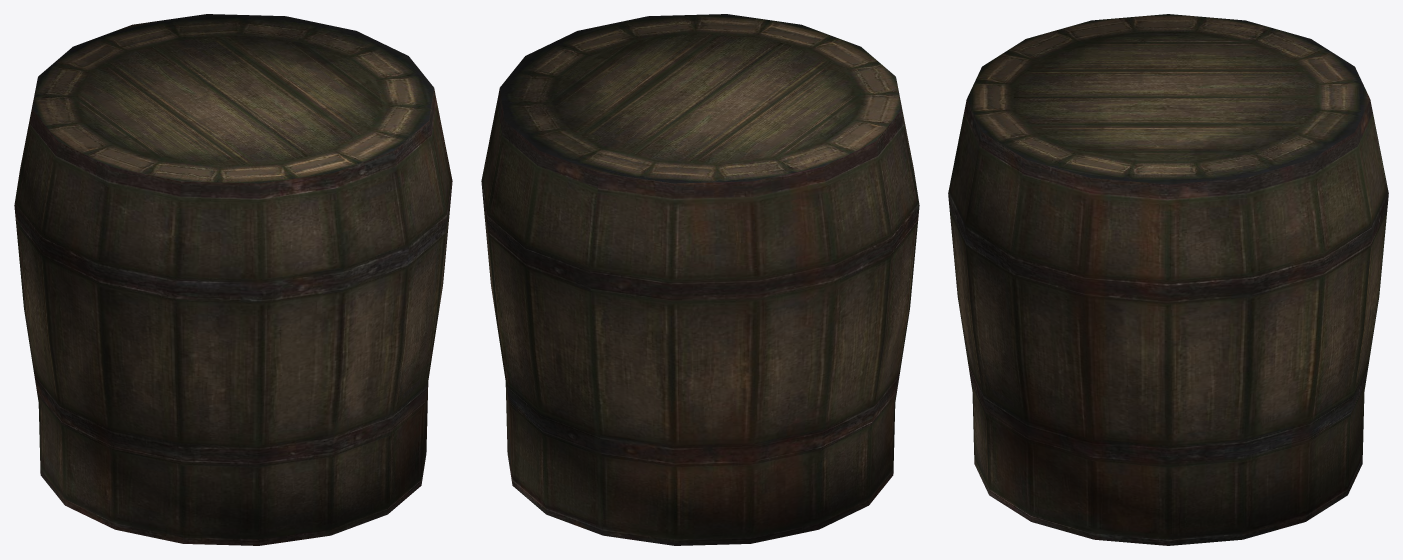
The model's file is barril_v1.fbx.
3 views of the same model, side by side, from view 1: azimuth 30°, elevation 25°; view 2: azimuth 150°, elevation 25°; view 3: azimuth 270°, elevation 25° (orthographic).
Parts seen in each view (by area): view 1: Cylinder; view 2: Cylinder; view 3: Cylinder.
Part boxes in pixels (bbox=[...]): Cylinder: bbox=[14, 14, 452, 545]; Cylinder: bbox=[481, 14, 919, 545]; Cylinder: bbox=[948, 14, 1388, 545].
Size of the model in its own units: 234 by 213 by 234.
1 material, 1 textured.
